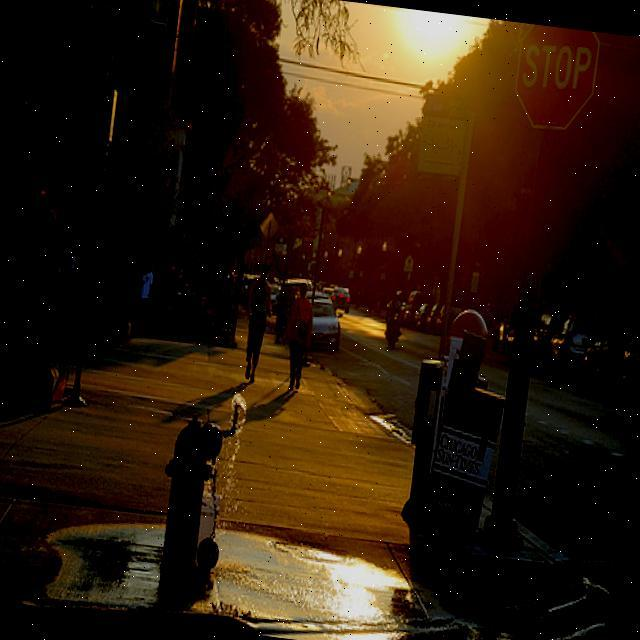fire_hydrant: (148, 410, 225, 608)
